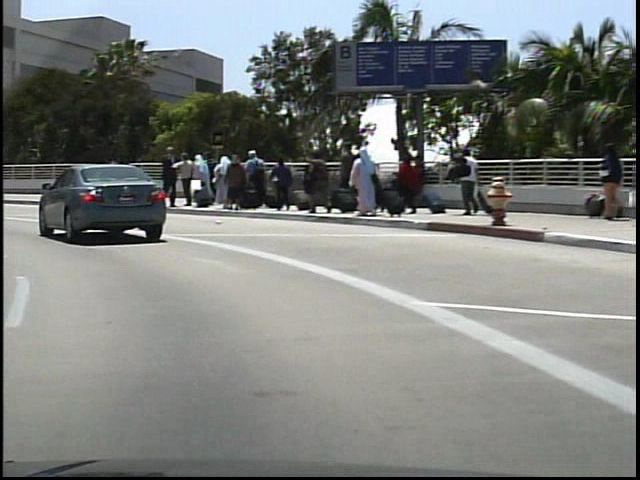person: (585, 140, 620, 224), (451, 143, 478, 220), (101, 150, 128, 212), (154, 143, 178, 211), (172, 150, 192, 210), (114, 154, 133, 196)
